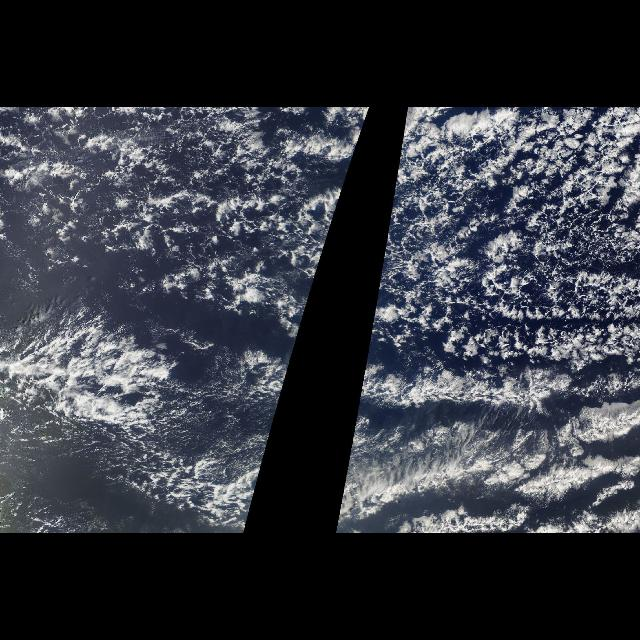Fish: (335, 296, 635, 528), (2, 310, 274, 528)
Gravel: (6, 108, 370, 306), (376, 108, 640, 306)
